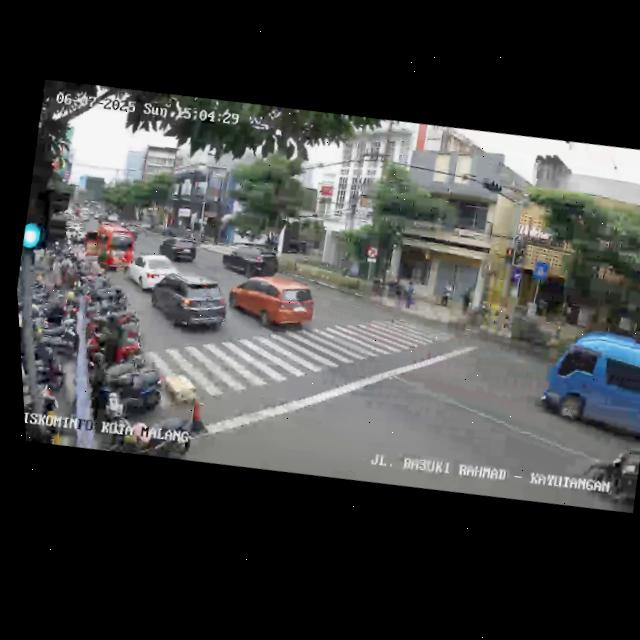bus: (528, 320, 640, 457)
car: (223, 265, 324, 345), (142, 263, 237, 347), (77, 220, 138, 277), (220, 236, 284, 287), (123, 248, 184, 299), (155, 230, 202, 268)
motorcycle: (577, 438, 640, 516)
